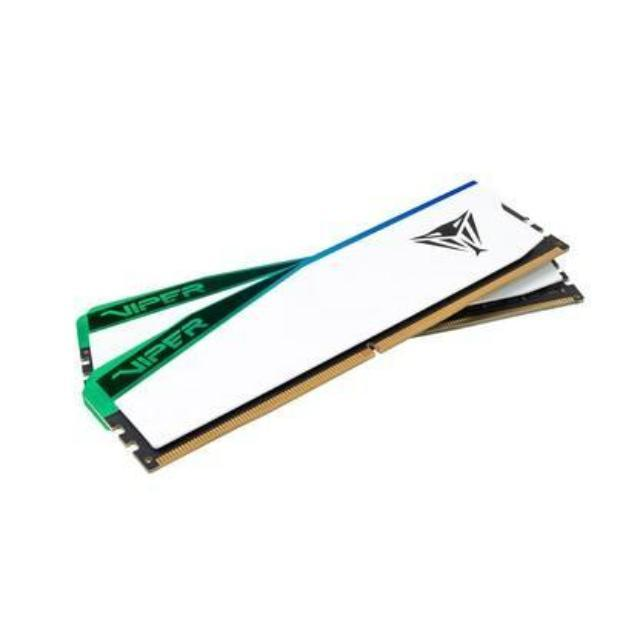RAM: (58, 172, 592, 476)
